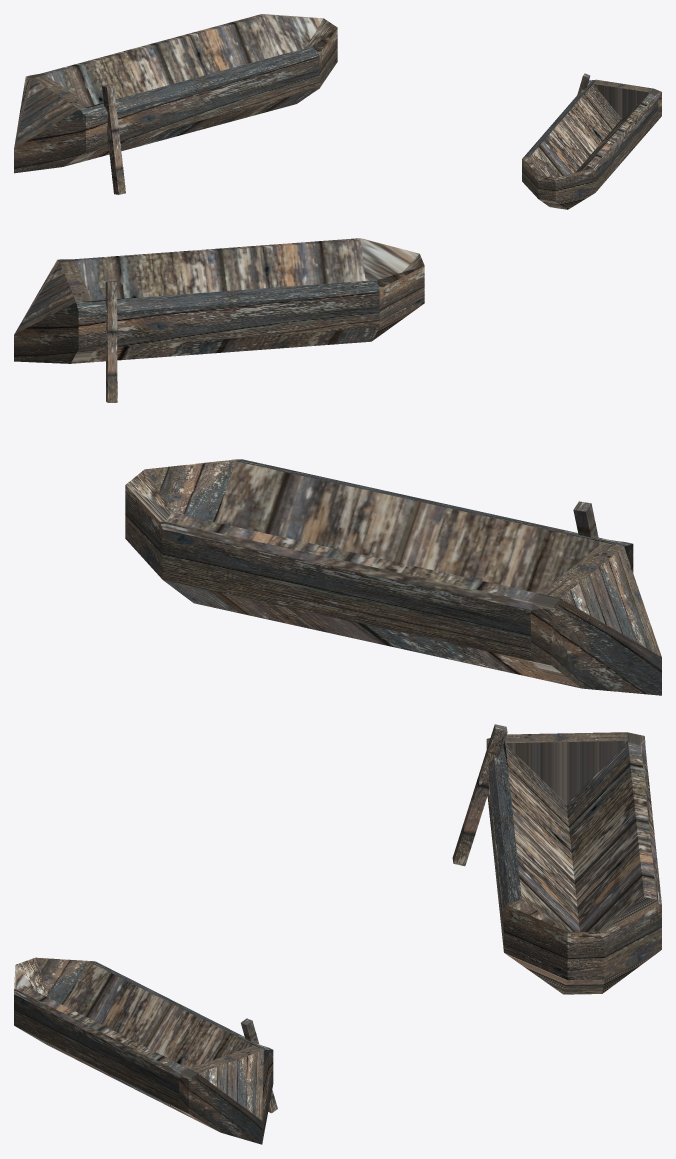
Rendered from fishingboat.glb.
3 views of the same model, one above another, from view 1: azimuth 30°, elevation 25°; view 2: azimuth 150°, elevation 25°; view 3: azimuth 270°, elevation 25° (orthographic). The views are drawn at different scales.
Parts seen in each view (by area): view 1: Building; view 2: Building; view 3: Building.
Part boxes in pixels (x1,y1,x2,y2): Building: (14, 14, 661, 209); Building: (14, 238, 661, 695); Building: (14, 724, 661, 1144).
Bounding box in the file's own units: 6.87 × 1.26 × 5.3.
Materials: 2 (2 with a texture image).
